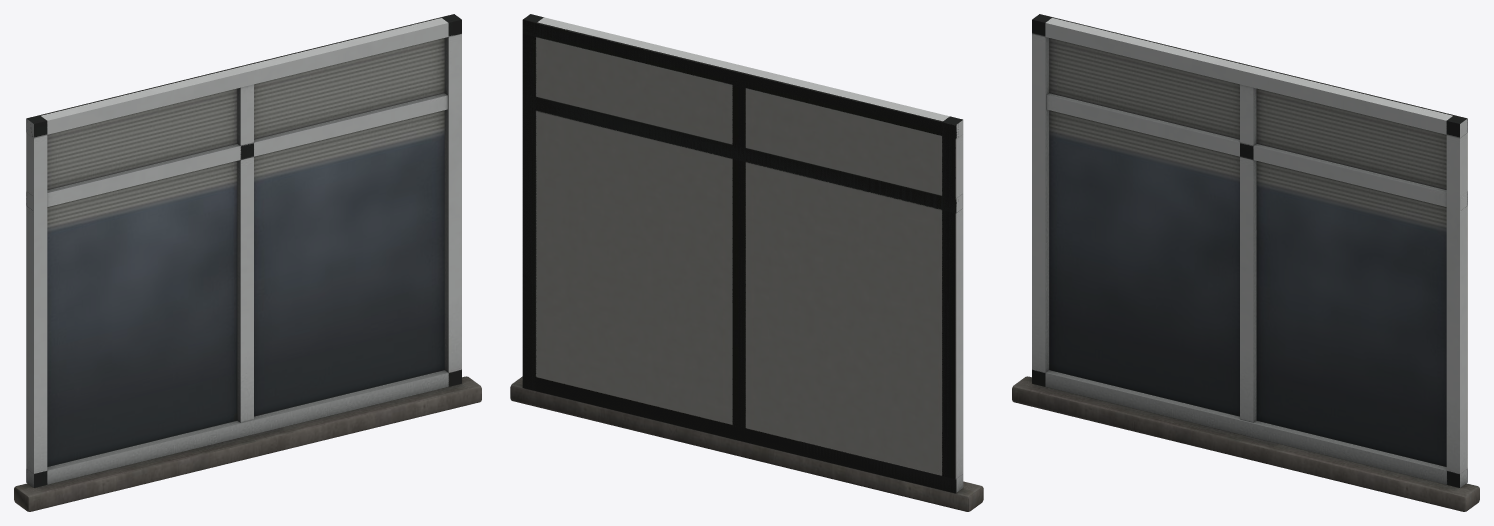
Rendered from win_office_wide.glb.
3 renders of one model, left to right at view 1: azimuth 30°, elevation 25°; view 2: azimuth 150°, elevation 25°; view 3: azimuth 330°, elevation 25°, orthographic.
Parts seen in each view (by area): view 1: win_office_wide; view 2: win_office_wide; view 3: win_office_wide.
Boxes of the visible parts, x1,y1,x2,y2 form: win_office_wide: (14,14,481,511); win_office_wide: (510,14,983,511); win_office_wide: (1012,14,1479,511).
Size of the model in its own units: 1.7 by 1.36 by 0.1.
Materials: 1 (1 with a texture image).
